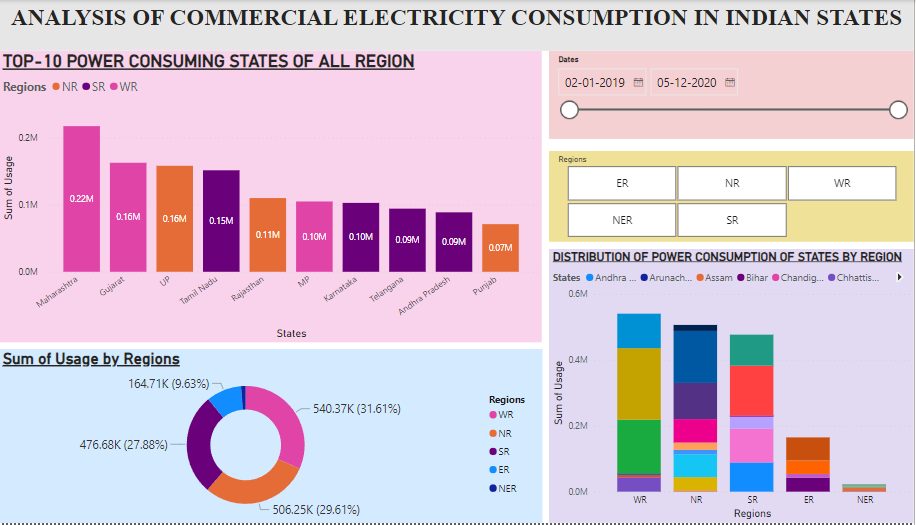

What the dashboard file says about the page in this screenshot:
{"tool":"powerbi","page":{"name":"Page 1","canvas":[1280,720],"ordinal":0},"visuals":[{"type":"columnChart","title":"TOP-10 POWER CONSUMING STATES OF ALL REGION","fields":{"Category":["2_data.States"],"Y":["Sum(2_data.Usage)"],"Series":["2_data.Regions"]},"box":[20.6,70.2,747.4,400.5],"z":0},{"type":"donutChart","fields":{"Category":["2_data.Regions"],"Y":["Sum(2_data.Usage)"]},"box":[20,480,748,240],"z":1000},{"type":"columnChart","title":"DISTRIBUTION OF POWER CONSUMPTION OF STATES BY REGION","fields":{"Y":["Sum(2_data.Usage)"],"Category":["2_data.Regions"],"Series":["2_data.States"]},"box":[777.6,342.7,502.4,377.1],"z":2000},{"type":"slicer","fields":{"Values":["2_data.Dates"]},"box":[777.6,70.2,502.4,121.1],"z":3000},{"type":"slicer","fields":{"Values":["2_data.Regions"]},"box":[777.6,207.8,502.4,125.2],"z":4000},{"type":"textbox","box":[20.6,0,1259.4,70.2],"z":5000}]}

Visuals, with their boxes in screenshot pixels (x1, y1, x2, y2), scaled from the page's 1280x720 canvas onto the 916x525 screenshot:
"TOP-10 POWER CONSUMING STATES OF ALL REGION" columnChart: pyautogui.locateOnScreen(15, 51, 550, 343)
donutChart - 2_data.Regions x Sum(2_data.Usage): pyautogui.locateOnScreen(14, 350, 550, 524)
"DISTRIBUTION OF POWER CONSUMPTION OF STATES BY REGION" columnChart: pyautogui.locateOnScreen(556, 250, 915, 524)
slicer - 2_data.Dates: pyautogui.locateOnScreen(556, 51, 915, 139)
slicer - 2_data.Regions: pyautogui.locateOnScreen(556, 152, 915, 243)
textbox: pyautogui.locateOnScreen(15, 0, 915, 51)
